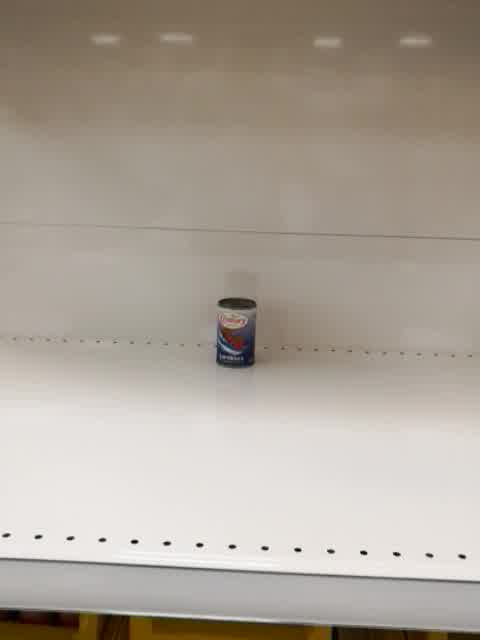sardine: (214, 296, 258, 369)
